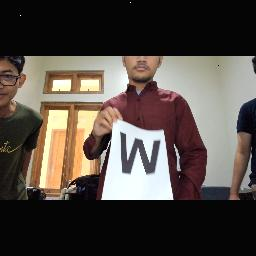w: (112, 129, 166, 181)
